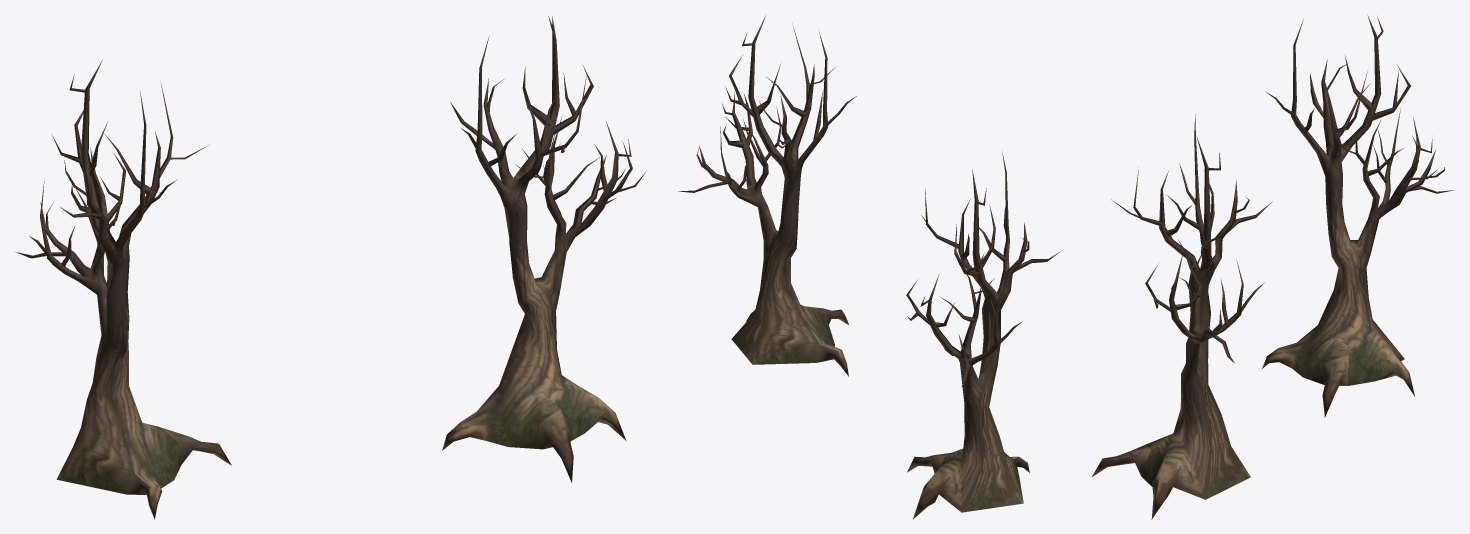
Rendered from plants_tall_tree_trunks10.fbx.
3 renders of one model, left to right at view 1: azimuth 30°, elevation 25°; view 2: azimuth 150°, elevation 25°; view 3: azimuth 270°, elevation 25°, orthographic. The views are drawn at different scales.
Parts seen in each view (by area): view 1: Material_#238683193/fancy_tree; view 2: Material_#238683193/fancy_tree; view 3: Material_#238683193/fancy_tree.
Boxes of the visible parts, x1,y1,x2,y2 form: Material_#238683193/fancy_tree: [15, 16, 646, 519]; Material_#238683193/fancy_tree: [678, 15, 1060, 519]; Material_#238683193/fancy_tree: [1091, 15, 1454, 519].
Size of the model in its own units: 12.01 by 10.05 by 8.49.
